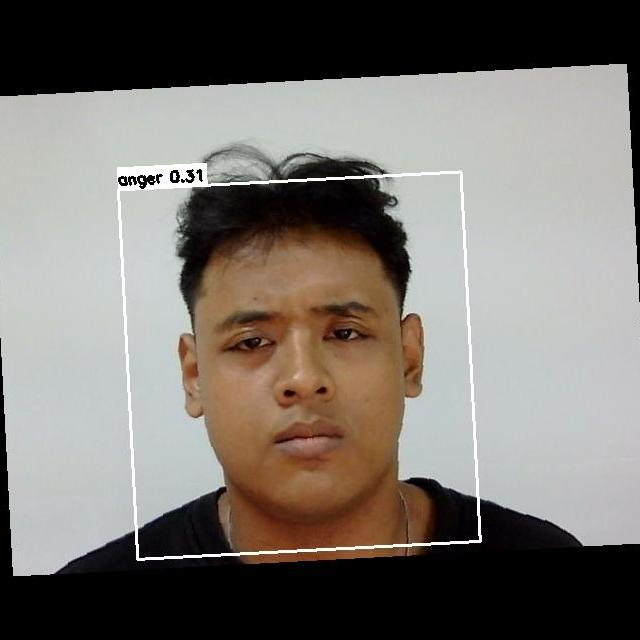Angry: (191, 281, 428, 467)
